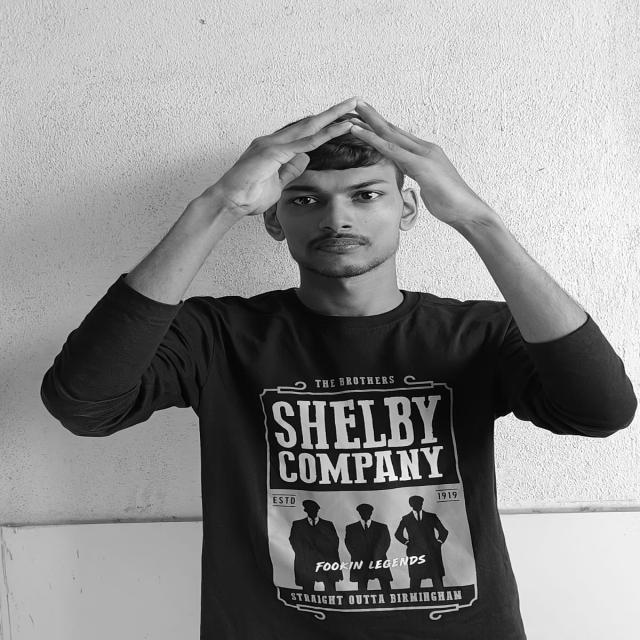Home: (218, 96, 486, 229)
